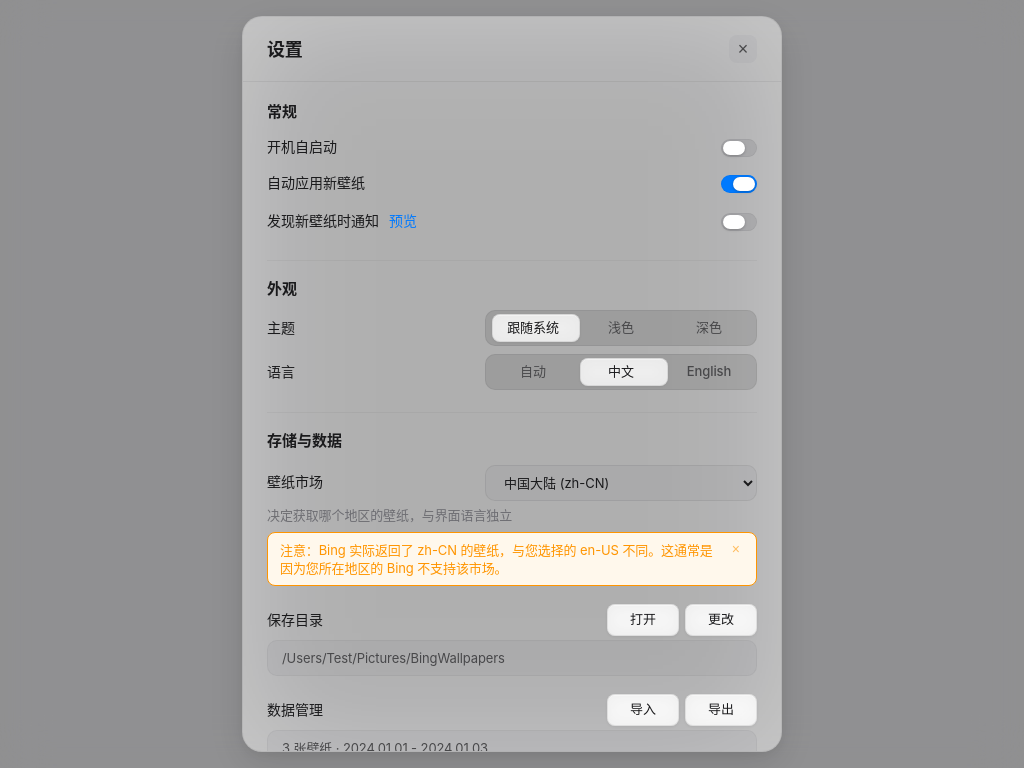
Test: Settings › should dismiss mkt mismatch warning when dismiss button is clicked
Step 1. Click the button named "dismiss" → (736, 549), box [728,541,744,557]
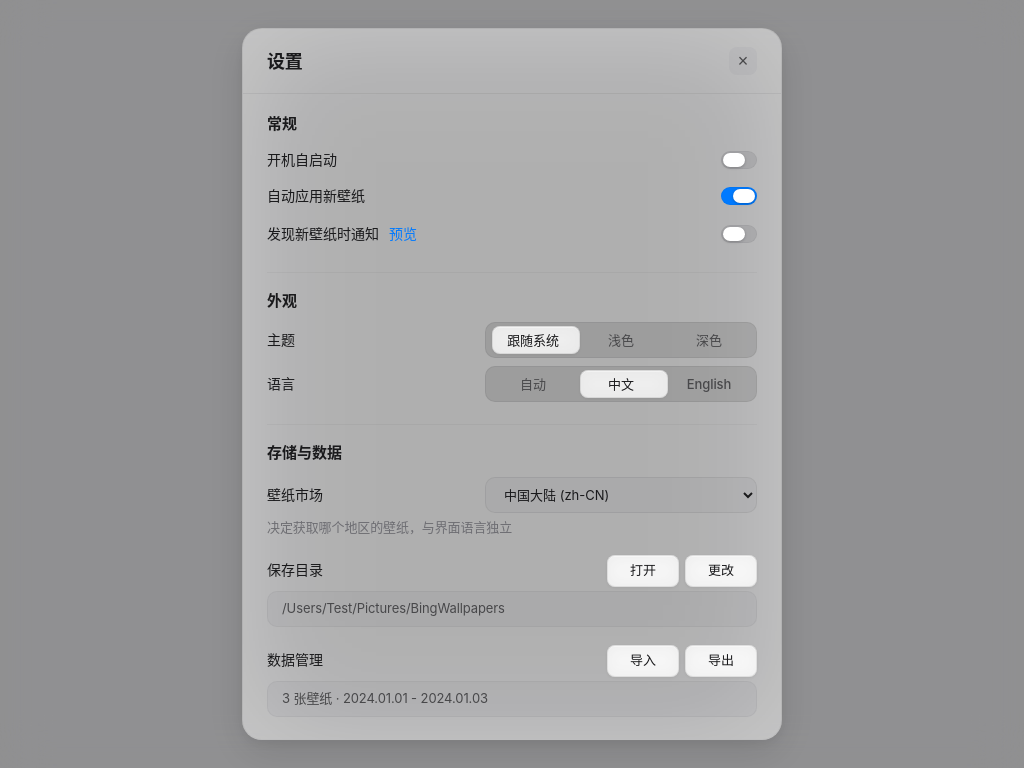
Expected: the button labelled "dismiss" is gone
